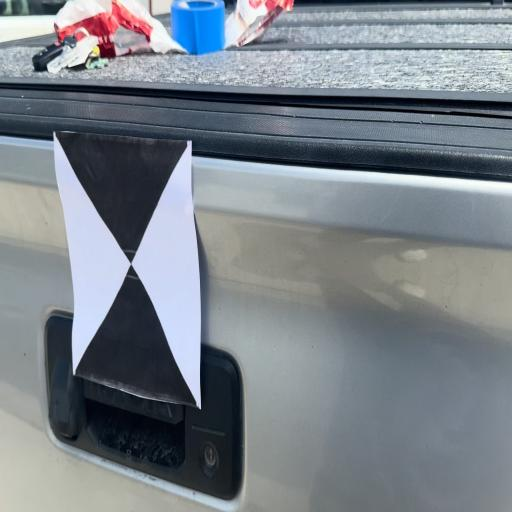target: (55, 131, 202, 411)
